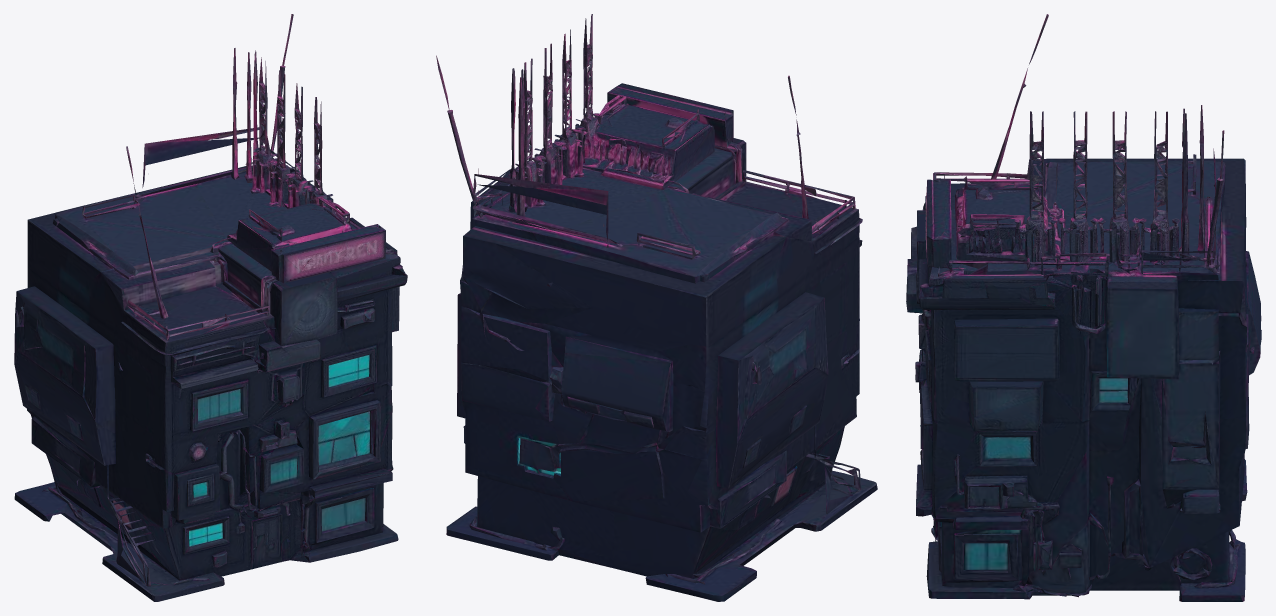
Rendered from city-block.glb.
The picture shows the model from 3 angles, left to right: view 1: azimuth 30°, elevation 25°; view 2: azimuth 150°, elevation 25°; view 3: azimuth 270°, elevation 25°; orthographic projection. The views are drawn at different scales.
Visible parts, largest first — view 1: mesh_node; view 2: mesh_node; view 3: mesh_node.
Boxes of the visible parts, box(x1,y1,x2,y2) form: mesh_node: box(14, 14, 407, 601); mesh_node: box(436, 14, 877, 601); mesh_node: box(906, 14, 1261, 601).
Size of the model in its own units: 1.34 by 1.9 by 1.27.
Materials: 1 (1 with a texture image).
